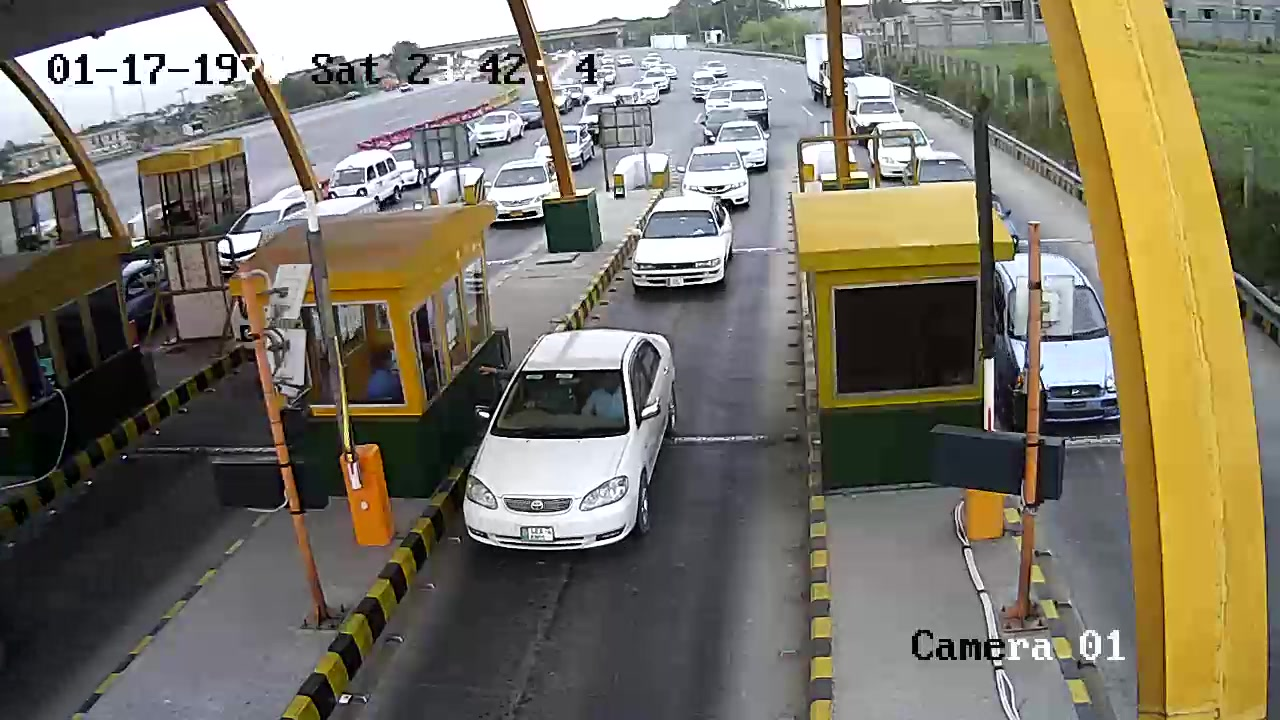F1: (459, 321, 689, 560), (626, 190, 742, 297)
